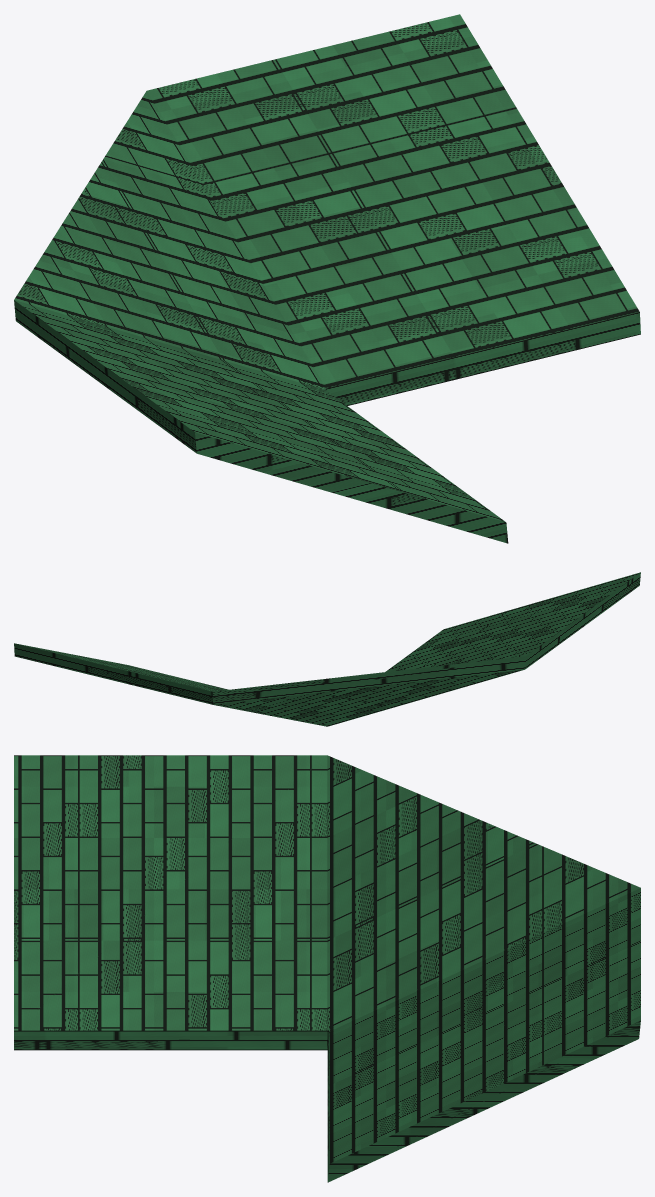
File: theodosian green roof corner.glb
The picture shows the model from 3 angles, top to bottom: view 1: azimuth 30°, elevation 25°; view 2: azimuth 150°, elevation 25°; view 3: azimuth 270°, elevation 25°; orthographic projection. The views are drawn at different scales.
Visible parts, largest first — view 1: Theodosian_green_corner; view 2: Theodosian_green_corner; view 3: Theodosian_green_corner.
Boxes of the visible parts, x1=… form: Theodosian_green_corner: x1=14, y1=14, x2=640, y2=543; Theodosian_green_corner: x1=14, y1=572, x2=640, y2=726; Theodosian_green_corner: x1=14, y1=755, x2=640, y2=1182.
Size of the model in its own units: 2 by 0.5726 by 2.
1 material, 1 textured.
